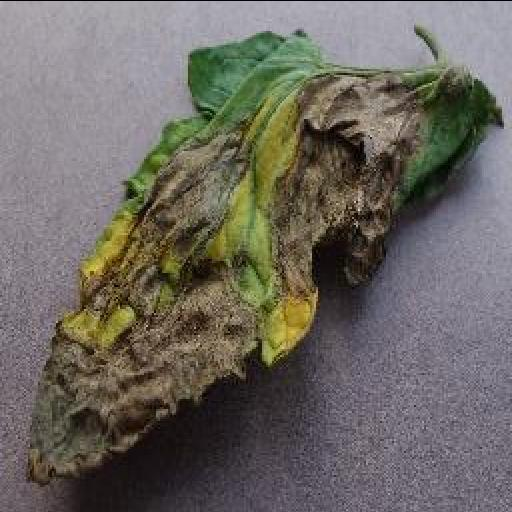disease_tomato: (14, 26, 510, 486)
